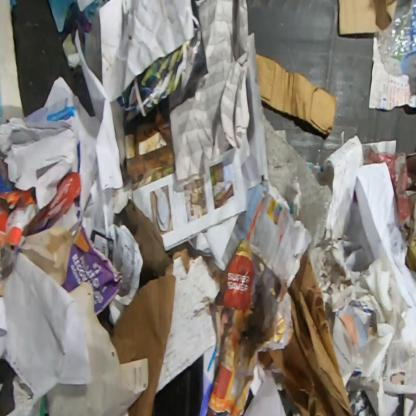cardboard: (156, 247, 224, 395), (255, 51, 337, 137), (246, 184, 311, 288), (337, 0, 399, 36)
rigid_plastic: (375, 0, 415, 67)
soft_plastic: (260, 106, 334, 250)
